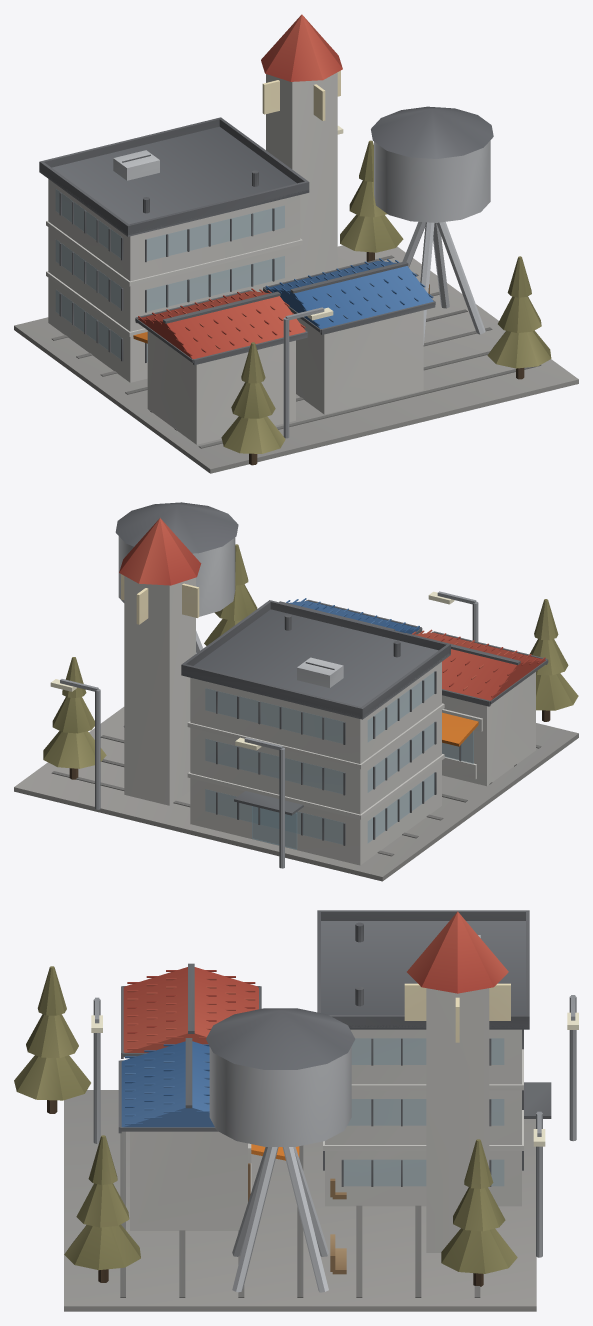
Rendered from Civic_P2.fbx.
The picture shows the model from 3 angles, top to bottom: view 1: azimuth 30°, elevation 25°; view 2: azimuth 150°, elevation 25°; view 3: azimuth 270°, elevation 25°; orthographic projection. The views are drawn at different scales.
Parts seen in each view (by area): view 1: Civic.Hall, Civic.Plaza, Civic.Shop1, Civic.Shop0, Civic.WaterTower, Civic.Tower, Civic.Tree2, Civic.Tree1, Civic.Tree0, Civic.Paving, Civic.Lamp0; view 2: Civic.Hall, Civic.Tower, Civic.Plaza, Civic.Shop0, Civic.WaterTower, Civic.Tree0, Civic.Tree2, Civic.Tree1, Civic.Shop1, Civic.Lamp1, Civic.Lamp2, Civic.Paving (+1 smaller); view 3: Civic.Plaza, Civic.Hall, Civic.WaterTower, Civic.Tower, Civic.Shop1, Civic.Shop0, Civic.Tree2, Civic.Tree0, Civic.Tree1, Civic.Paving, Civic.Lamp0, Civic.Lamp2 (+2 smaller).
Boxes of the visible parts, bbox=[...] form: Civic.Hall: bbox=[39, 117, 309, 382]; Civic.Plaza: bbox=[14, 245, 578, 473]; Civic.Shop1: bbox=[263, 258, 435, 414]; Civic.Shop0: bbox=[133, 288, 307, 444]; Civic.WaterTower: bbox=[371, 106, 493, 344]; Civic.Tower: bbox=[261, 14, 342, 278]; Civic.Tree2: bbox=[221, 342, 285, 465]; Civic.Tree1: bbox=[487, 256, 551, 379]; Civic.Tree0: bbox=[340, 140, 403, 261]; Civic.Paving: bbox=[51, 255, 541, 448]; Civic.Lamp0: bbox=[283, 307, 333, 438]; Civic.Hall: bbox=[181, 600, 450, 865]; Civic.Tower: bbox=[119, 518, 201, 805]; Civic.Plaza: bbox=[14, 707, 578, 881]; Civic.Shop0: bbox=[406, 629, 548, 786]; Civic.WaterTower: bbox=[115, 502, 238, 727]; Civic.Tree0: bbox=[43, 657, 106, 779]; Civic.Tree2: bbox=[530, 599, 578, 721]; Civic.Tree1: bbox=[204, 544, 257, 645]; Civic.Shop1: bbox=[279, 598, 422, 634]; Civic.Lamp1: bbox=[50, 679, 100, 809]; Civic.Lamp2: bbox=[235, 737, 284, 868]; Civic.Paving: bbox=[51, 735, 541, 856]; Civic.Plaza: bbox=[64, 1090, 536, 1311]; Civic.Hall: bbox=[317, 910, 551, 1206]; Civic.WaterTower: bbox=[206, 1008, 355, 1292]; Civic.Tower: bbox=[404, 911, 510, 1252]; Civic.Shop1: bbox=[118, 1038, 299, 1230]; Civic.Shop0: bbox=[121, 963, 261, 1058]; Civic.Tree2: bbox=[14, 966, 90, 1113]; Civic.Tree0: bbox=[441, 1139, 517, 1286]; Civic.Tree1: bbox=[64, 1135, 140, 1282]; Civic.Paving: bbox=[120, 1131, 480, 1297]; Civic.Lamp0: bbox=[91, 997, 102, 1143]; Civic.Lamp2: bbox=[567, 995, 578, 1141].
Bounding box in the file's own units: 2600 × 1871 × 2870.
